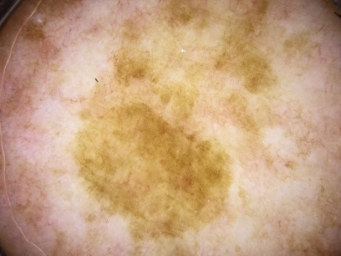melanoma: (77, 105, 230, 244), (215, 1, 283, 94), (111, 48, 151, 90), (166, 1, 212, 29), (229, 94, 258, 133)
